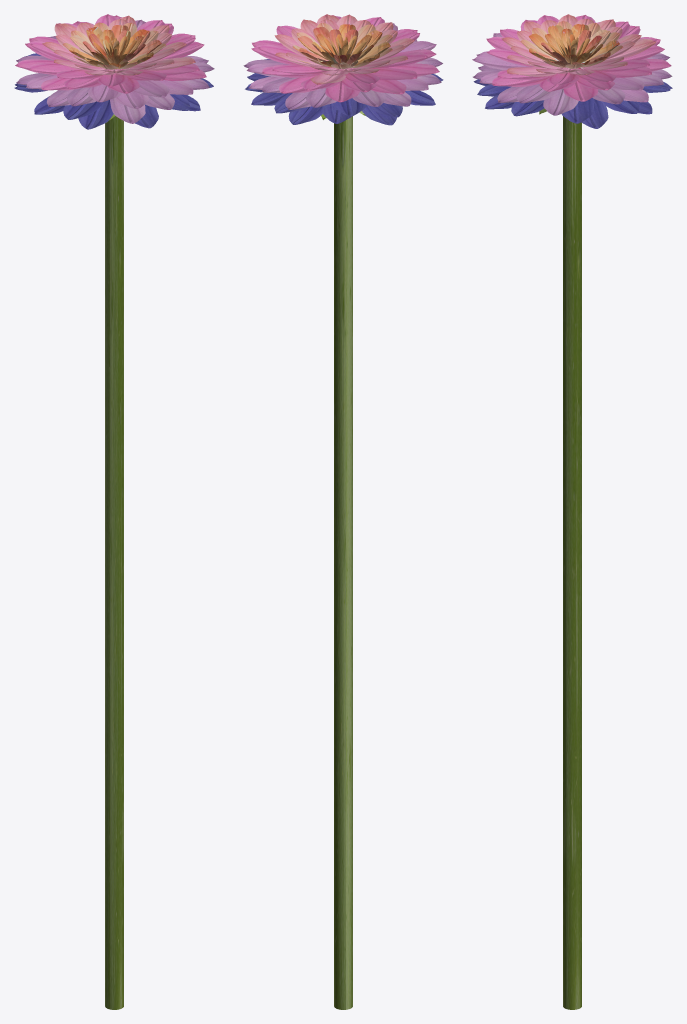
File: Dalia.fbx
3 views of the same model, side by side, from view 1: azimuth 30°, elevation 25°; view 2: azimuth 150°, elevation 25°; view 3: azimuth 270°, elevation 25° (orthographic).
Visible parts, largest first — view 1: Plane.068; view 2: Plane.068; view 3: Plane.068.
Part boxes in pixels (<box>): Plane.068: <box>14,14,214,1009</box>; Plane.068: <box>243,14,443,1009</box>; Plane.068: <box>472,14,672,1009</box>.
Size of the model in its own units: 175 by 931 by 176.
Materials: 2 (2 with a texture image).
